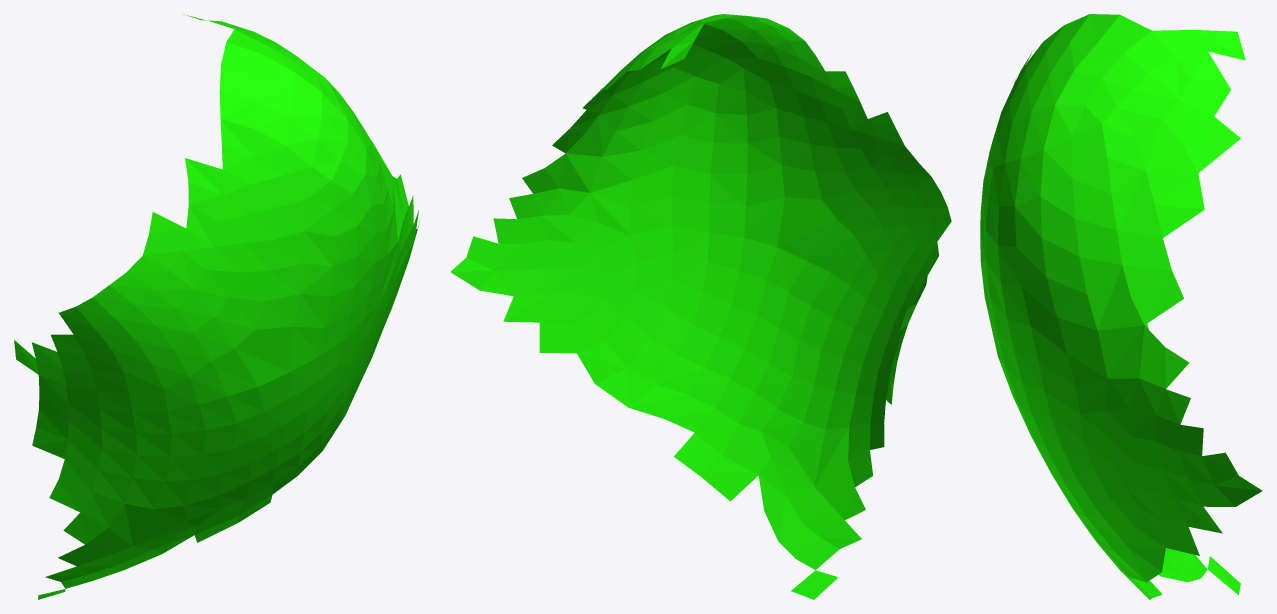
File: Explanatory_Remeshed.obj
3 renders of one model, left to right at view 1: azimuth 30°, elevation 25°; view 2: azimuth 150°, elevation 25°; view 3: azimuth 270°, elevation 25°, orthographic. The views are drawn at different scales.
Bounding box in the file's own units: 1.43 × 1.71 × 0.6791.
